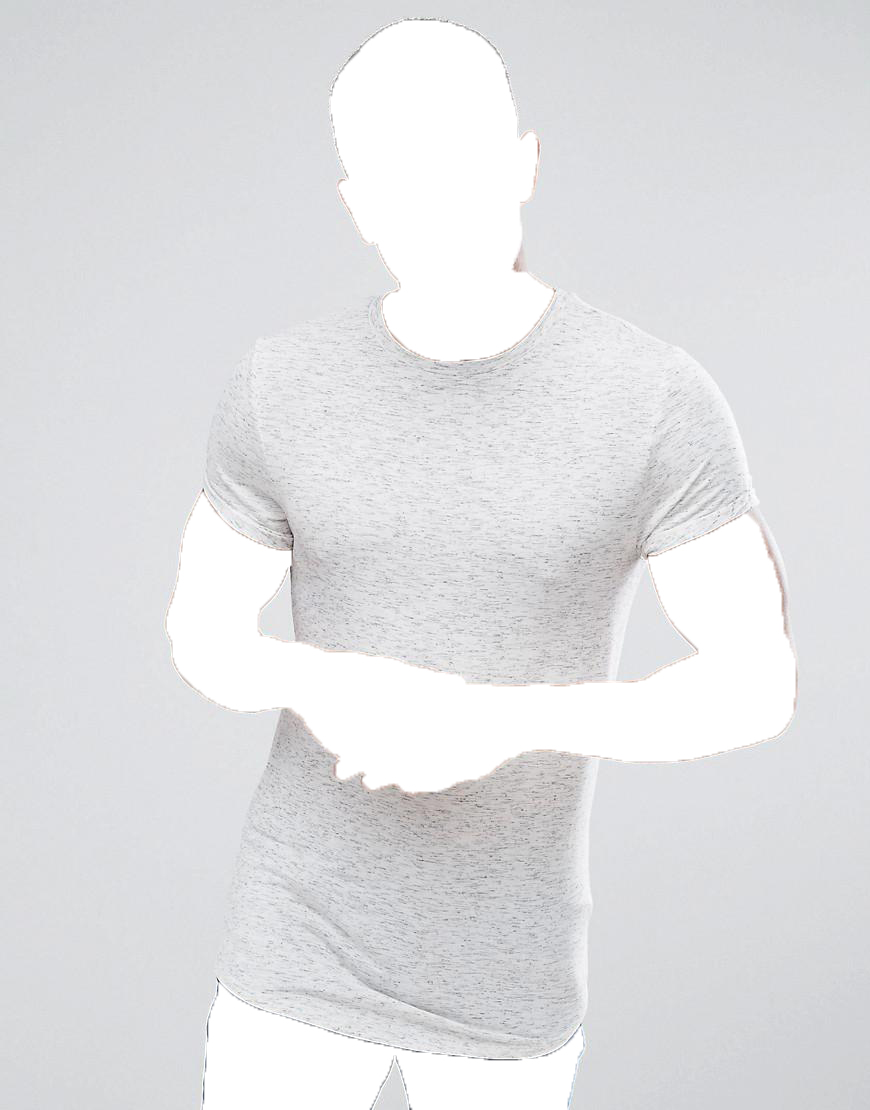teeshirt: (186, 278, 761, 1062)
